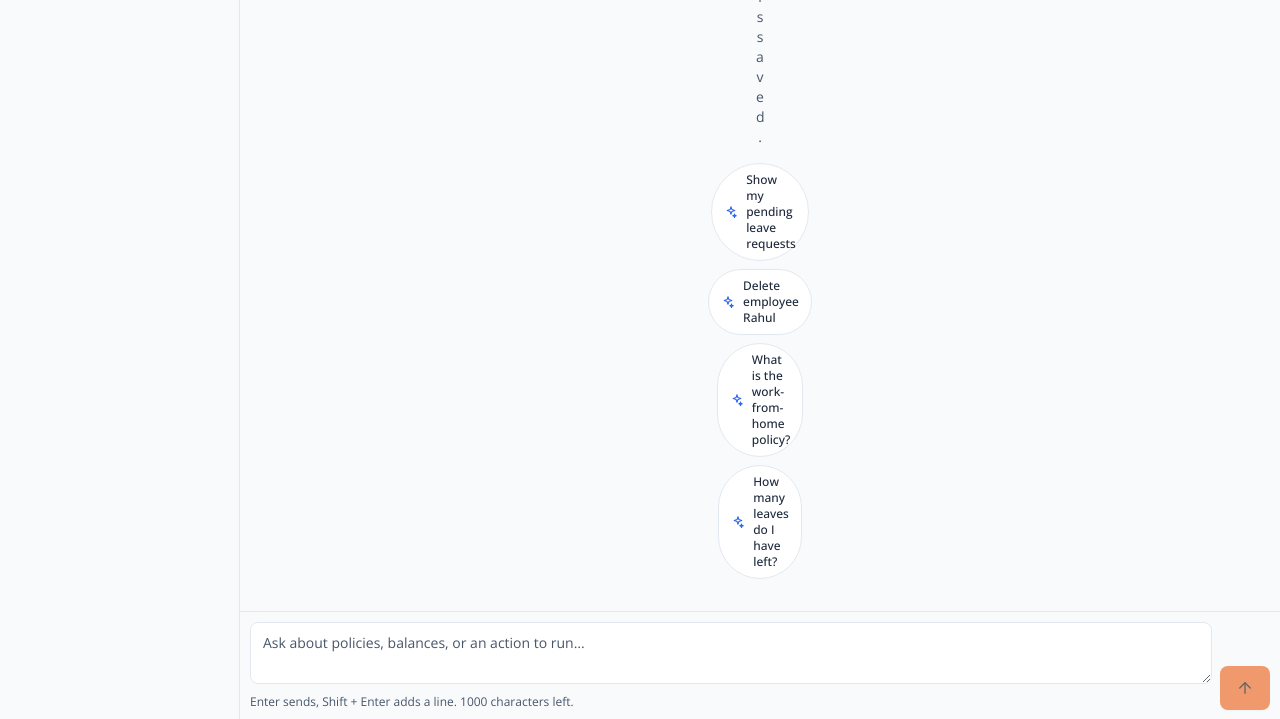
Scenario: AI chat panel — states and navigation › starts a new conversation and keeps the previous one in history
(page scrolled)
Type "How many leaves do I have left?" into the text box named "message the hr assistant" at (731, 653), box [250, 622, 1212, 684]
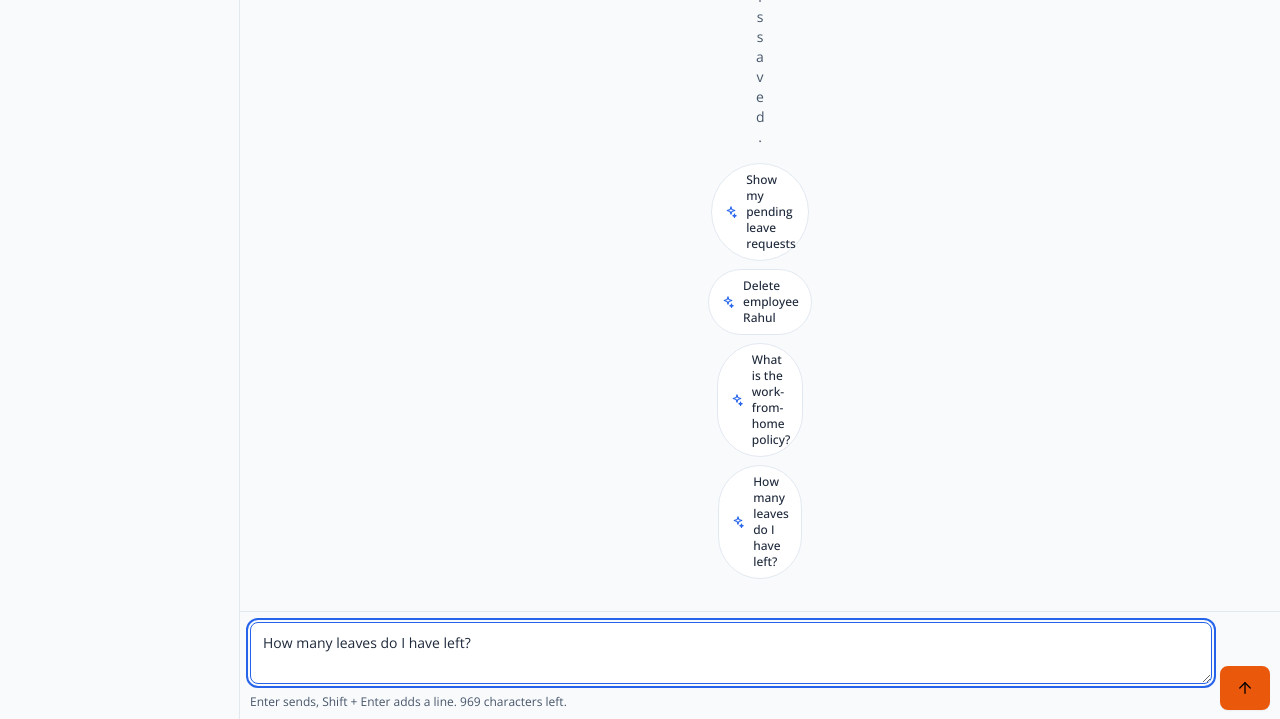
Click the button named "send message" at (1245, 688), box [1220, 666, 1270, 710]
(page scrolled)
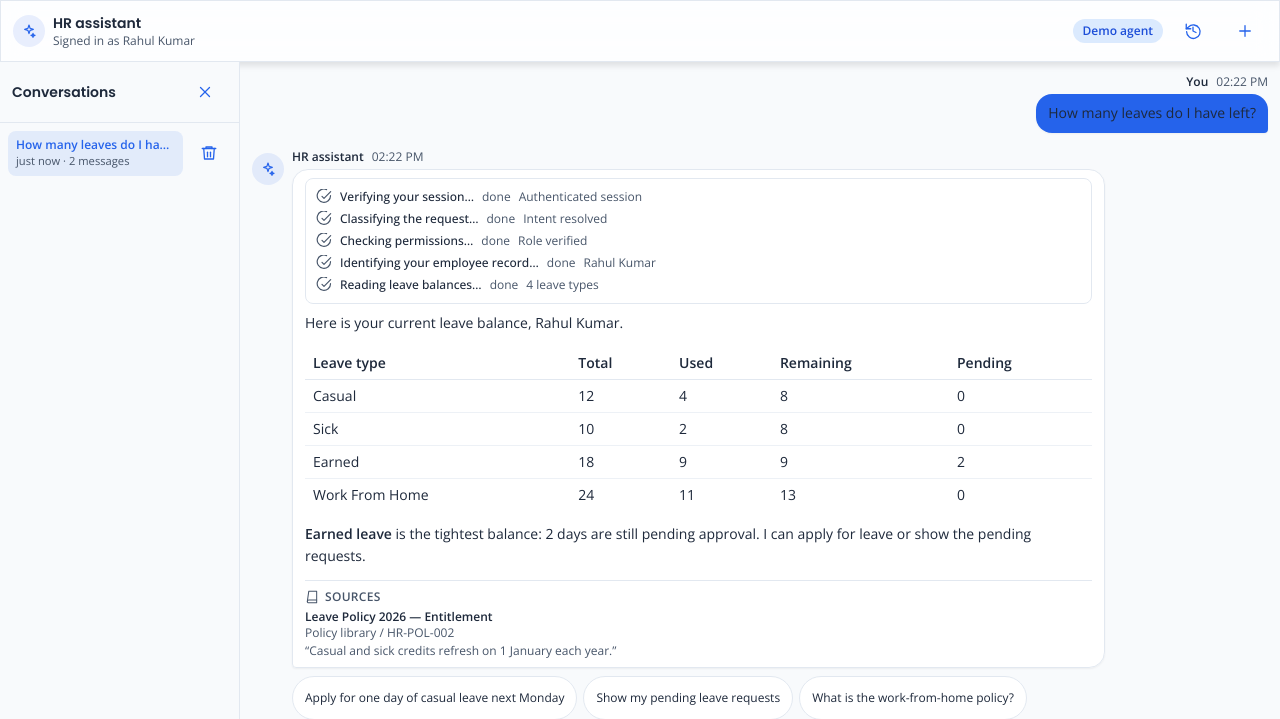
Result: the text "Here is your current leave balance, Rahul Kumar." is shown at [305, 313, 623, 332]
Click the button named "start a new chat" at (1245, 31), box [1223, 9, 1267, 53]
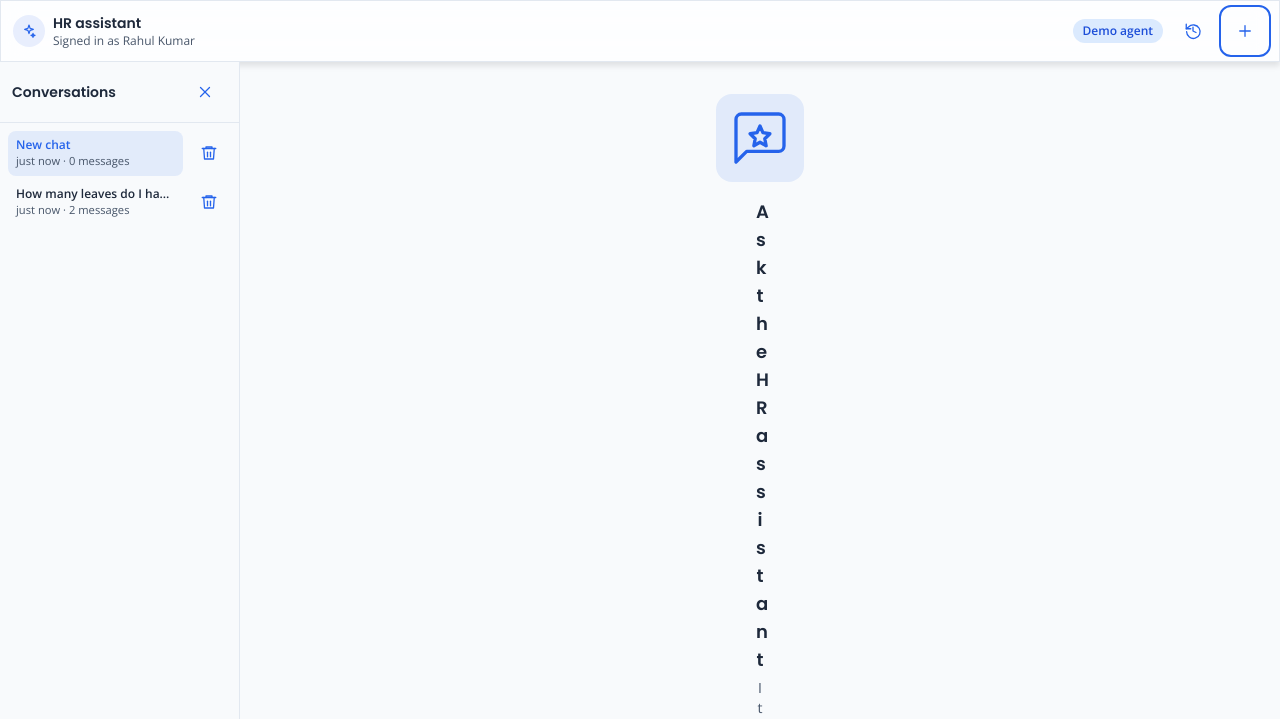
Result: the button "How many leaves do I have left? just now · 2 messages" is shown
Result: the heading "Ask the HR assistant" is shown at [756, 198, 764, 674]
Click the button "How many leaves do I have left? just now · 2 messages" at (96, 202), box [8, 180, 183, 225]
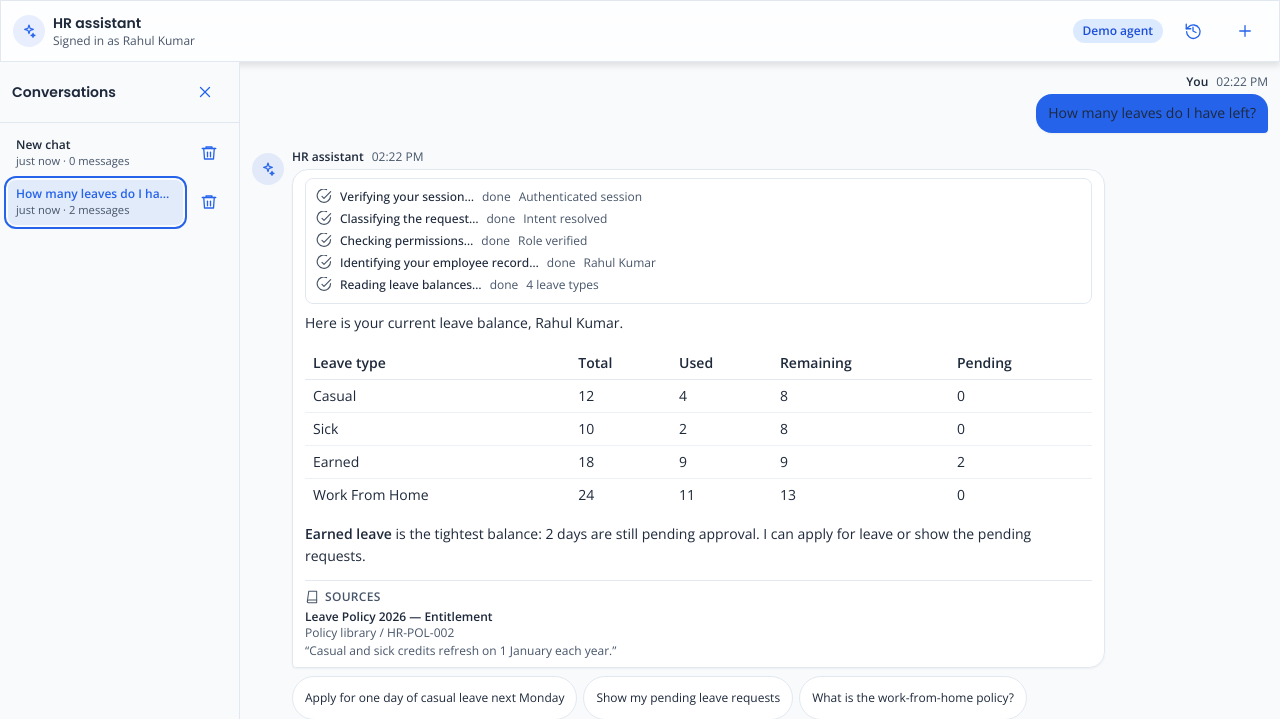
Result: the text "Here is your current leave balance, Rahul Kumar." is shown at [305, 313, 623, 332]
